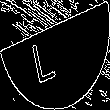L_N: (40, 26, 70, 84)
